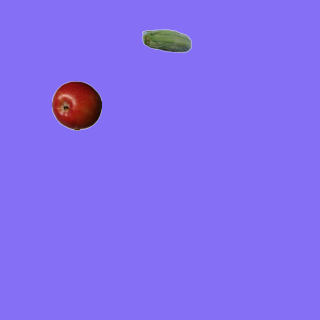Apple Braeburn: (51, 80, 101, 130)
Corn Husk: (141, 17, 191, 67)
